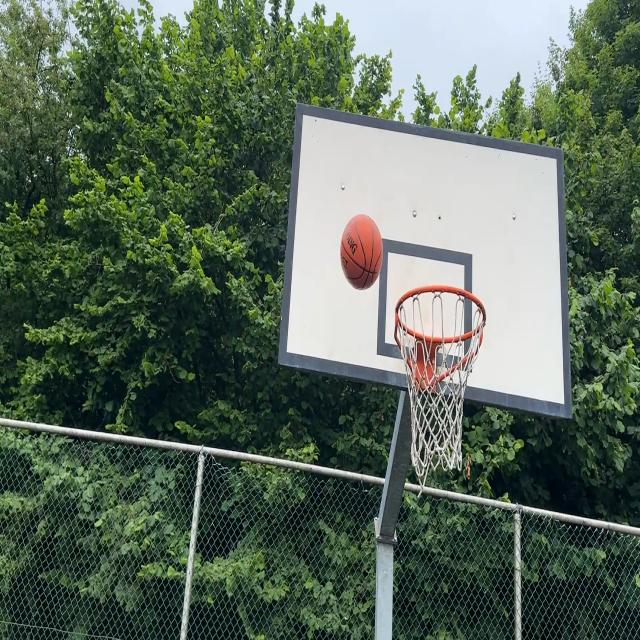Basketball: (341, 214, 384, 289)
